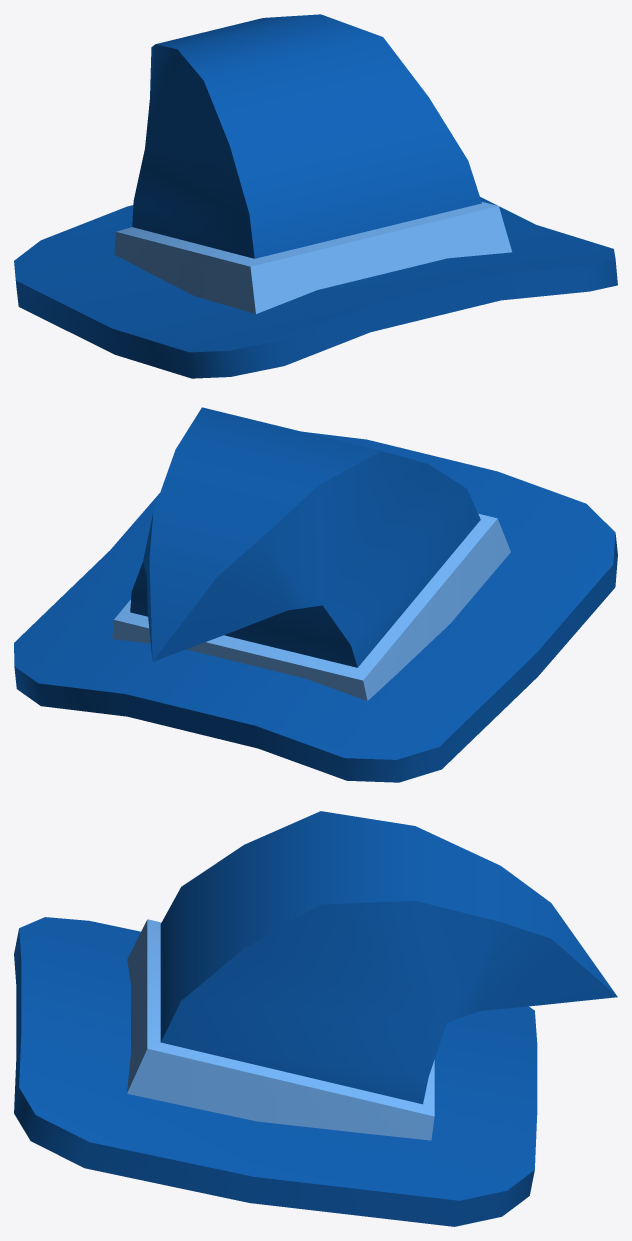
File: Hat 01.FBX
3 renders of one model, top to bottom at view 1: azimuth 30°, elevation 25°; view 2: azimuth 150°, elevation 25°; view 3: azimuth 270°, elevation 25°, orthographic. The views are drawn at different scales.
Parts seen in each view (by area): view 1: Hat 01; view 2: Hat 01; view 3: Hat 01.
Boxes of the visible parts, x1,y1,x2,y2 form: Hat 01: (14, 14, 617, 378); Hat 01: (14, 407, 617, 782); Hat 01: (14, 811, 617, 1226).
Size of the model in its own units: 106 by 58.09 by 122.
1 material, 1 textured.
